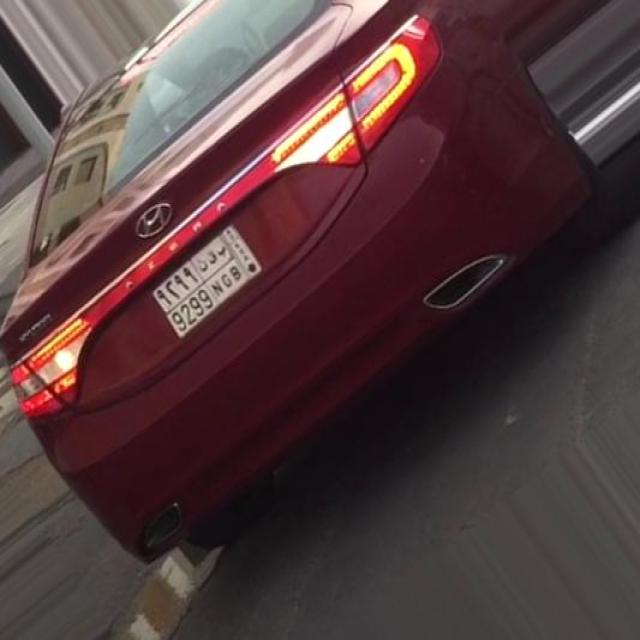Car-plate: (138, 211, 283, 359)
